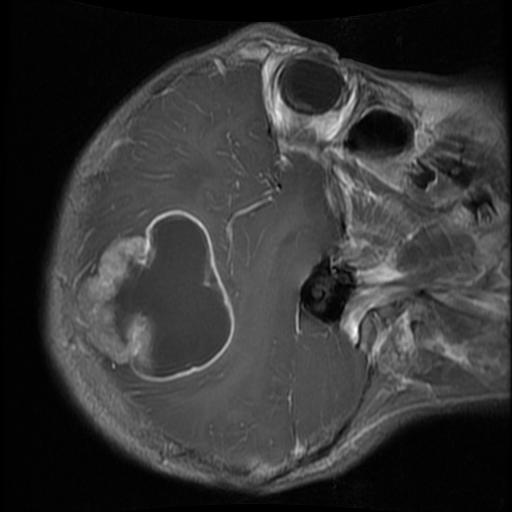glioma: (72, 206, 239, 386)
